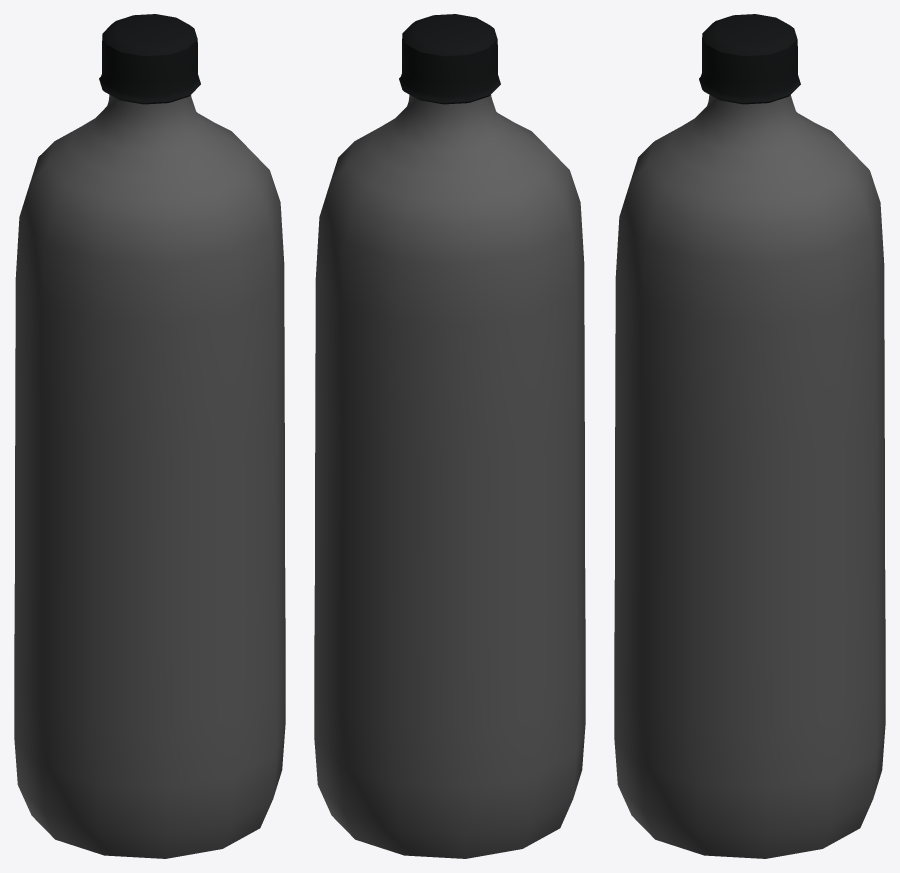
Rendered from GlassBottle001.FBX.
The picture shows the model from 3 angles, left to right: view 1: azimuth 30°, elevation 25°; view 2: azimuth 150°, elevation 25°; view 3: azimuth 270°, elevation 25°; orthographic projection.
Parts seen in each view (by area): view 1: GlassBottle001; view 2: GlassBottle001; view 3: GlassBottle001.
Part boxes in pixels (x1,y1,x2,y2): GlassBottle001: [14, 14, 285, 858]; GlassBottle001: [314, 14, 585, 858]; GlassBottle001: [614, 14, 885, 858].
Size of the model in its own units: 0.3459 by 1.1 by 0.3459.
2 materials, 2 textured.
